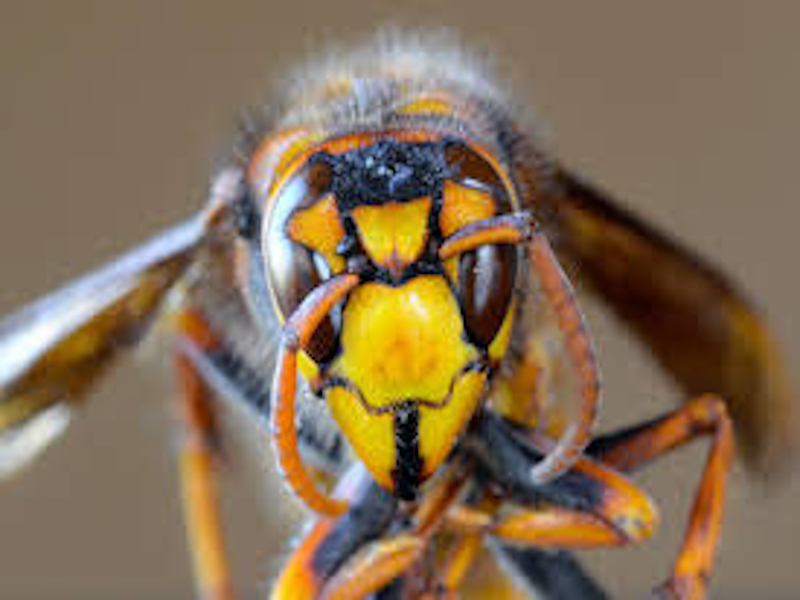chax: (23, 22, 784, 574)
